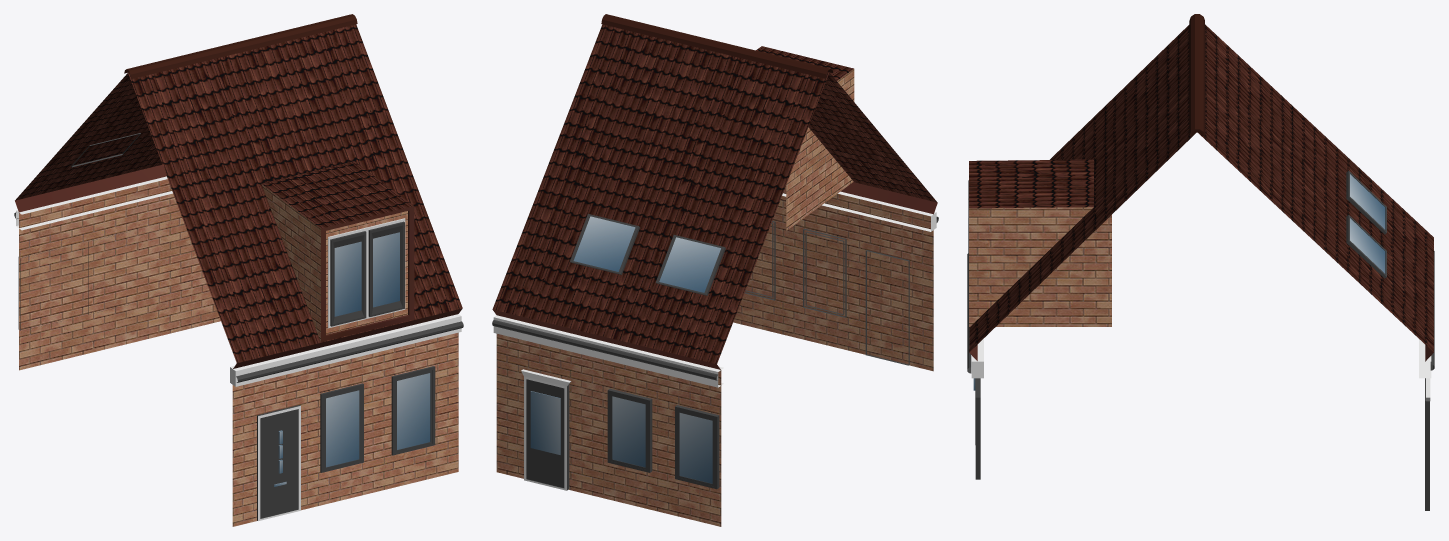
The model's file is Buorkerij_31.fbx.
3 renders of one model, left to right at view 1: azimuth 30°, elevation 25°; view 2: azimuth 150°, elevation 25°; view 3: azimuth 270°, elevation 25°, orthographic. The views are drawn at different scales.
Visible parts, largest first — view 1: Buorkerij_31; view 2: Buorkerij_31; view 3: Buorkerij_31.
Boxes of the visible parts, <box> form: Buorkerij_31: <box>14,14,463,526</box>; Buorkerij_31: <box>492,14,938,526</box>; Buorkerij_31: <box>967,14,1434,510</box>.
Size of the model in its own units: 5.48 by 8.81 by 9.38.
